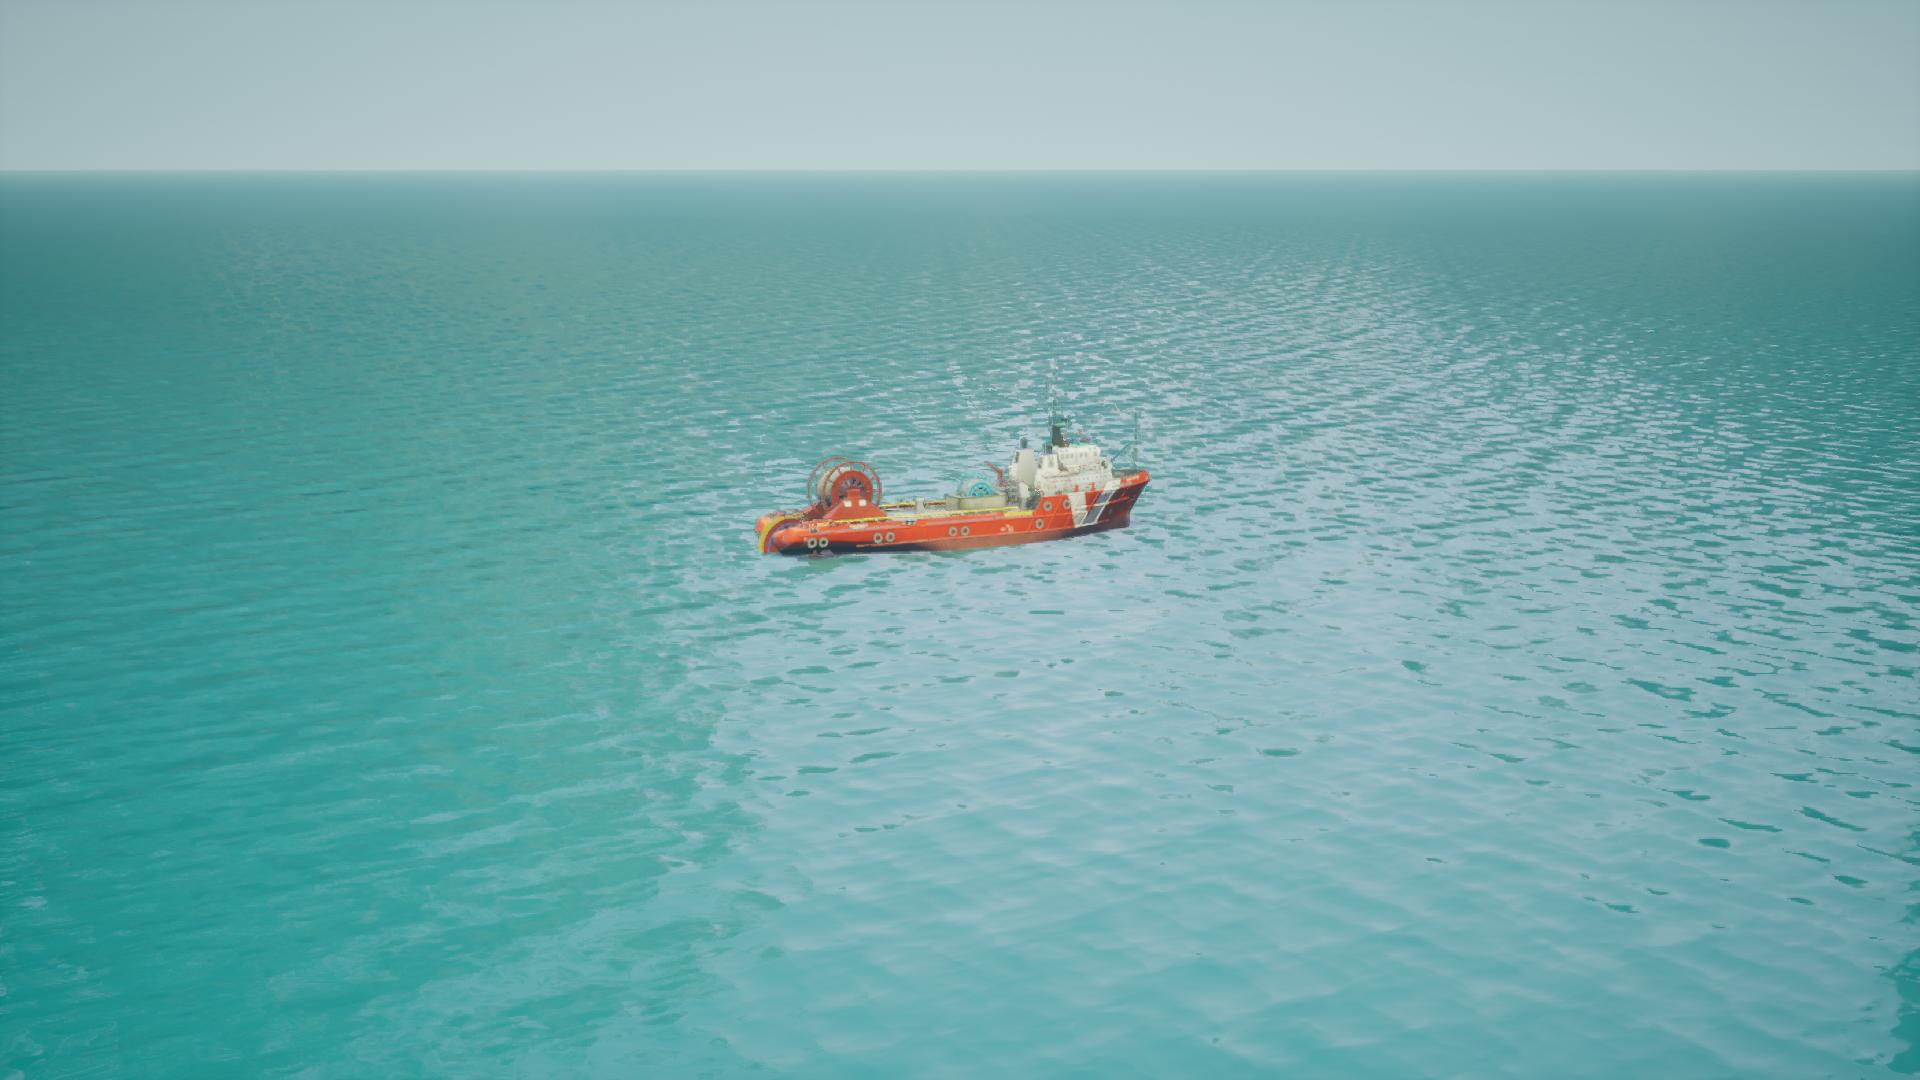Tug Boat: (764, 406, 1155, 562)
